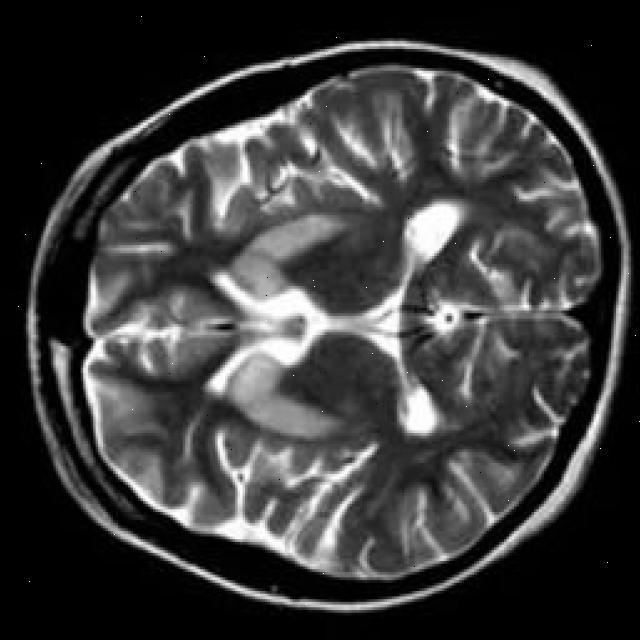No_Tumor: (28, 41, 630, 609)
